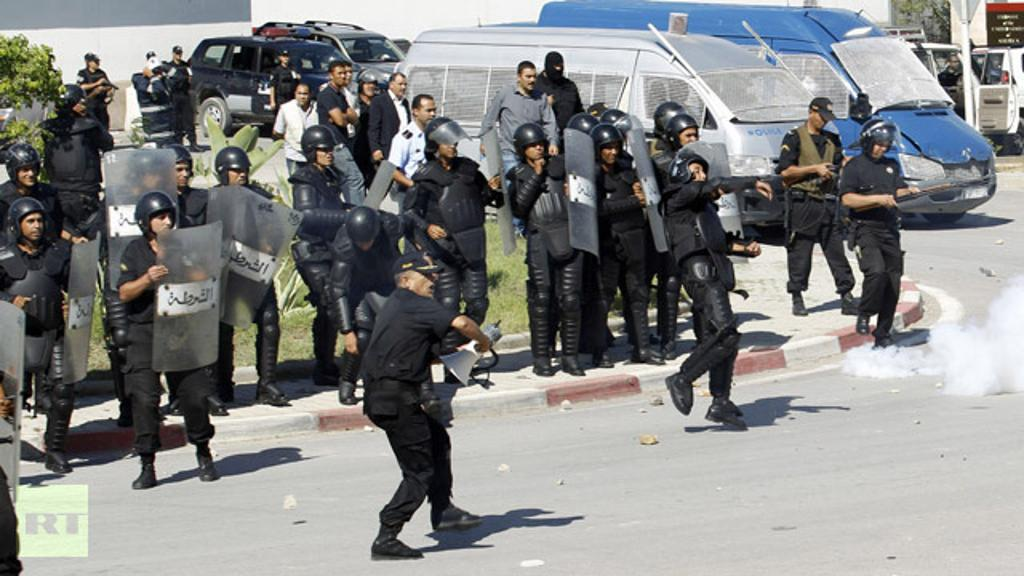face: (409, 263, 436, 299), (24, 213, 45, 241), (152, 209, 173, 236), (18, 162, 38, 186), (144, 165, 163, 190), (316, 140, 334, 166), (171, 163, 190, 187), (523, 139, 544, 160), (420, 101, 437, 126), (679, 128, 697, 150), (689, 166, 706, 189), (440, 135, 457, 158), (230, 164, 248, 185), (602, 142, 619, 164), (353, 233, 374, 250), (872, 138, 889, 157), (523, 71, 538, 91), (813, 108, 827, 129), (73, 97, 87, 117), (394, 78, 408, 96), (297, 88, 310, 107), (334, 68, 347, 86), (550, 60, 563, 77), (364, 80, 376, 97), (344, 68, 352, 84), (951, 58, 960, 70), (91, 60, 101, 70), (360, 44, 370, 54), (282, 55, 289, 64), (175, 51, 182, 60), (1001, 73, 1007, 83)
